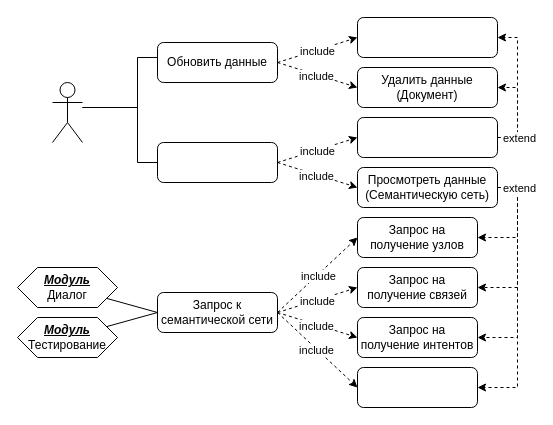
The diagram is 553 pixels wide and 425 high, and some of its shapes have lost their labels. Here are the shapes that lost their labels. From the top down, the centre of each, then its label:
the point at 427,37: Добавить данные (Документ)
the point at 67,112: Пользователь
the point at 427,137: Просмотреть данные (Документы)
the point at 217,162: Просмотреть данные
the point at 417,387: Запрос на получение значений
